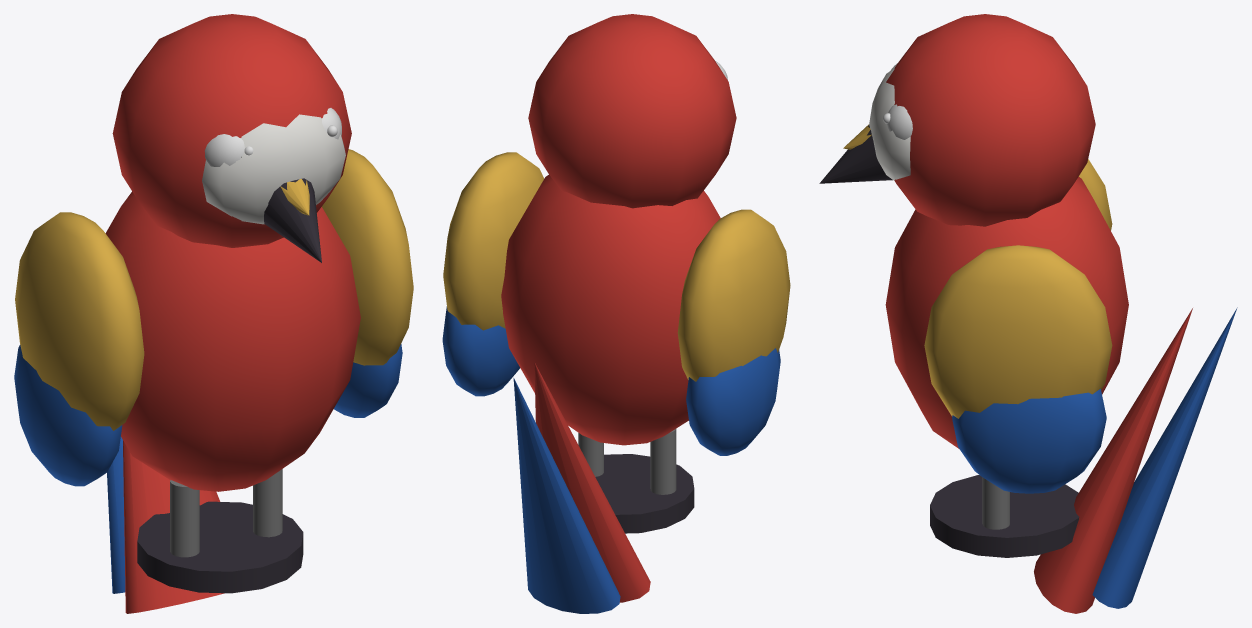
The model's file is helperParrot.glb.
The picture shows the model from 3 angles, left to right: view 1: azimuth 30°, elevation 25°; view 2: azimuth 150°, elevation 25°; view 3: azimuth 270°, elevation 25°; orthographic projection. The views are drawn at different scales.
Parts seen in each view (by area): view 1: part_000, part_002, part_004; view 2: part_000, part_002, part_004; view 3: part_000, part_004, part_002.
Part boxes in pixels (x1,y1,x2,y2): part_000: [105, 14, 360, 613]; part_002: [14, 212, 144, 486]; part_004: [322, 149, 413, 417]; part_000: [501, 14, 736, 613]; part_002: [677, 209, 790, 455]; part_004: [442, 152, 544, 396]; part_000: [819, 14, 1237, 613]; part_004: [924, 245, 1112, 493]; part_002: [1079, 159, 1112, 230].
Size of the model in its own units: 0.68 by 1.14 by 0.757.
